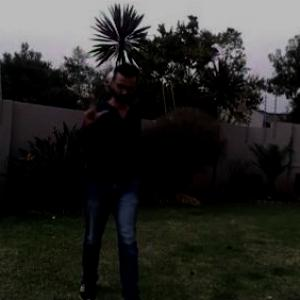land_hand: (76, 93, 112, 133)
